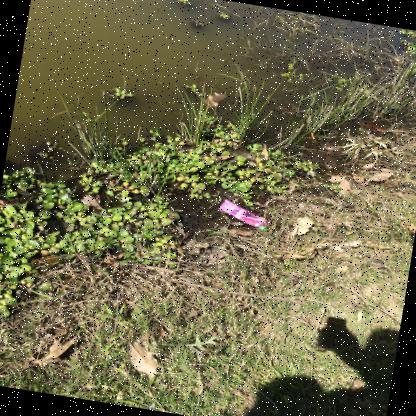Other plastic: (217, 199, 267, 230)
